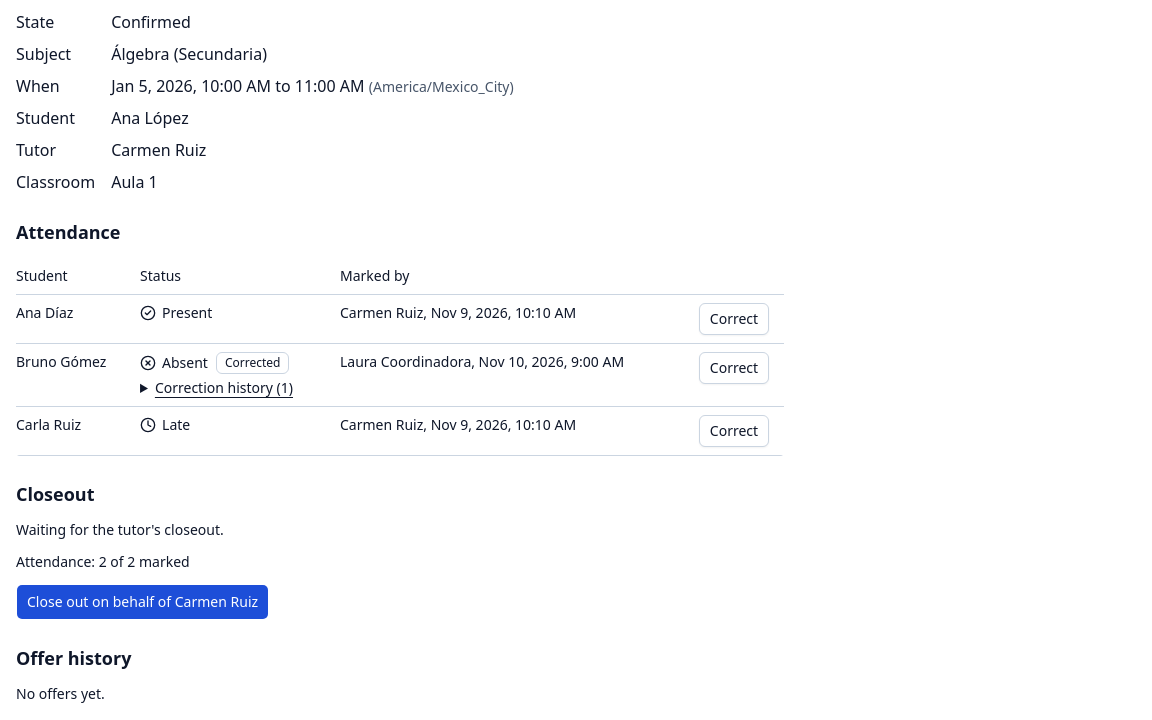
Test: close out on behalf (#301b C) › says the approved summary reaches the families (#322 E1)
The width and height of the screenshot is (1152, 720).
(page scrolled)
Click the button "Close out on behalf of Carmen Ruiz" at (143, 602), box x1=16 y1=584 x2=269 y2=620
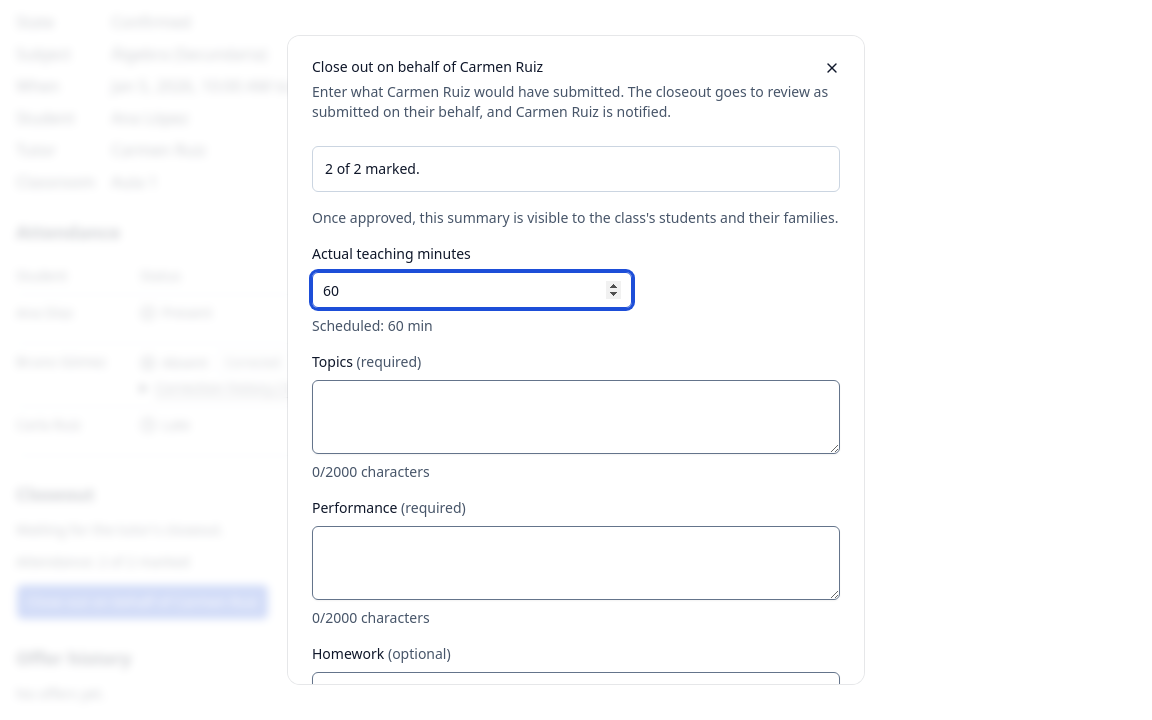
Check: the dialog shows "Once approved, this summary is visible to the class's students and their families.", box x1=312 y1=208 x2=838 y2=227
